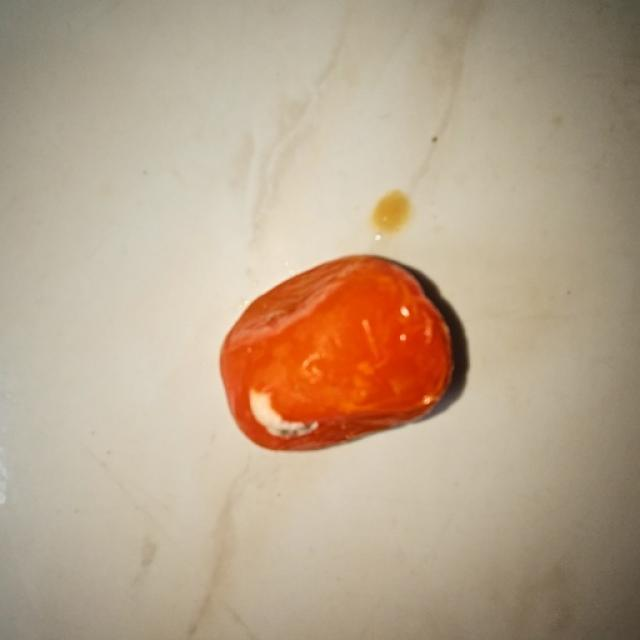Red: (218, 252, 455, 452)
